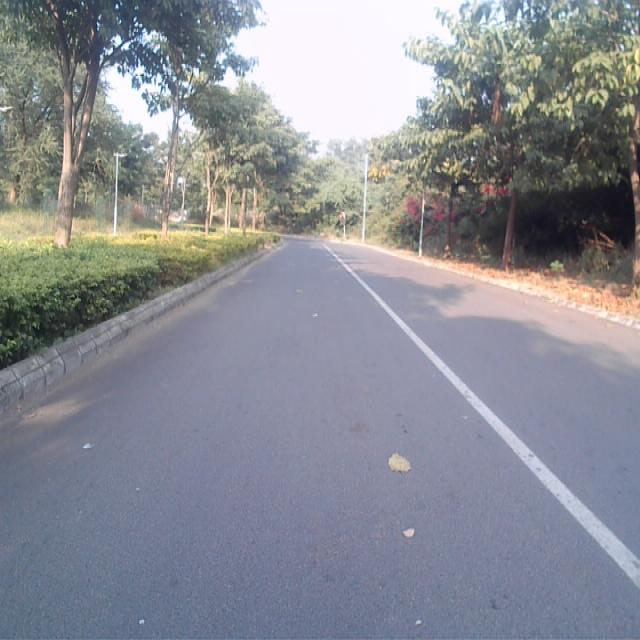lane: (0, 245, 640, 640)
